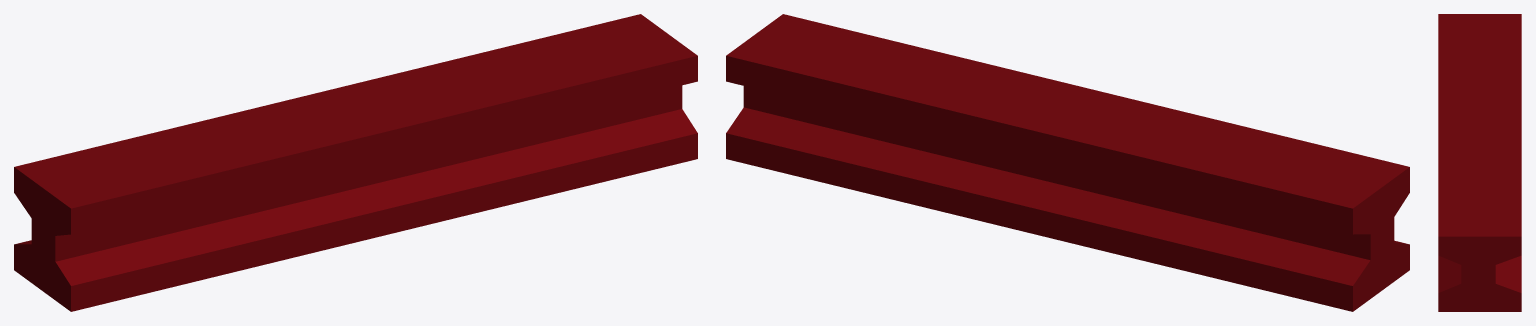
File: steel bar.fbx
3 renders of one model, left to right at view 1: azimuth 30°, elevation 25°; view 2: azimuth 150°, elevation 25°; view 3: azimuth 270°, elevation 25°, orthographic. The views are drawn at different scales.
Visible parts, largest first — view 1: Cube; view 2: Cube; view 3: Cube.
Boxes of the visible parts, bbox=[...] form: Cube: bbox=[14, 14, 697, 311]; Cube: bbox=[726, 14, 1409, 311]; Cube: bbox=[1438, 14, 1521, 311].
Bounding box in the file's own units: 940 × 148 × 148.
